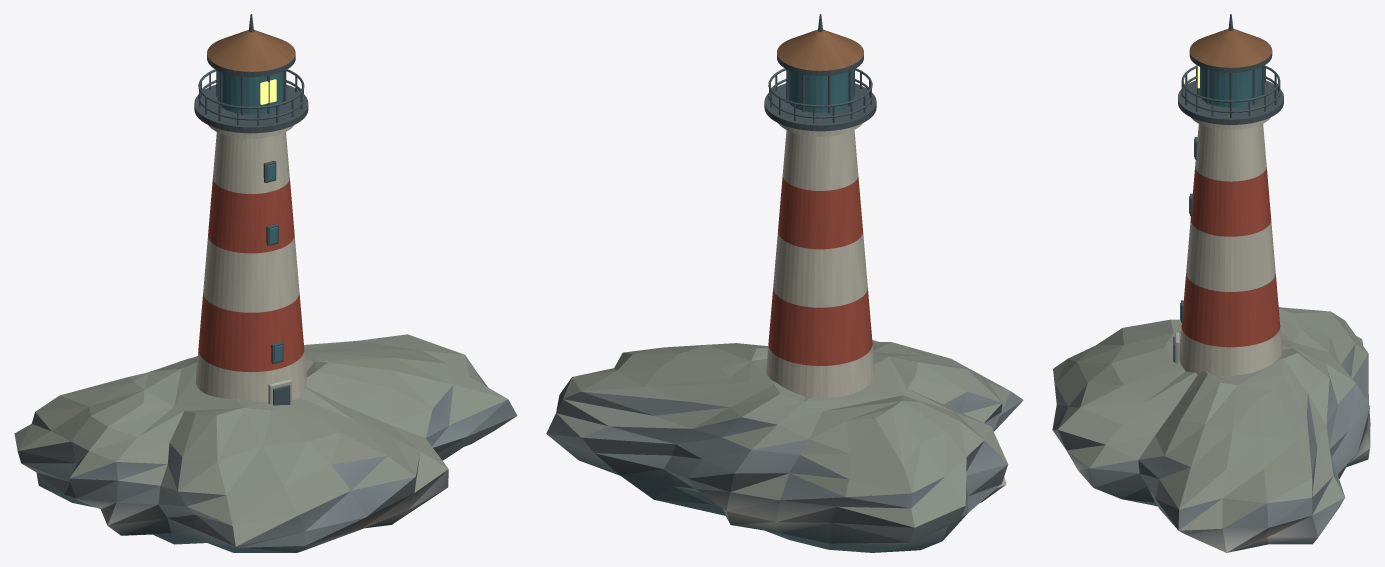
The model's file is lighthouse.glb.
3 renders of one model, left to right at view 1: azimuth 30°, elevation 25°; view 2: azimuth 150°, elevation 25°; view 3: azimuth 270°, elevation 25°, orthographic. The views are drawn at different scales.
Visible parts, largest first — view 1: lighthouse; view 2: lighthouse; view 3: lighthouse.
Part boxes in pixels (box(x1,y1,x2,y2)): lighthouse: box(14, 14, 517, 552); lighthouse: box(546, 14, 1023, 552); lighthouse: box(1052, 14, 1370, 552).
Bounding box in the file's own units: 18.99 × 20.79 × 12.7.
